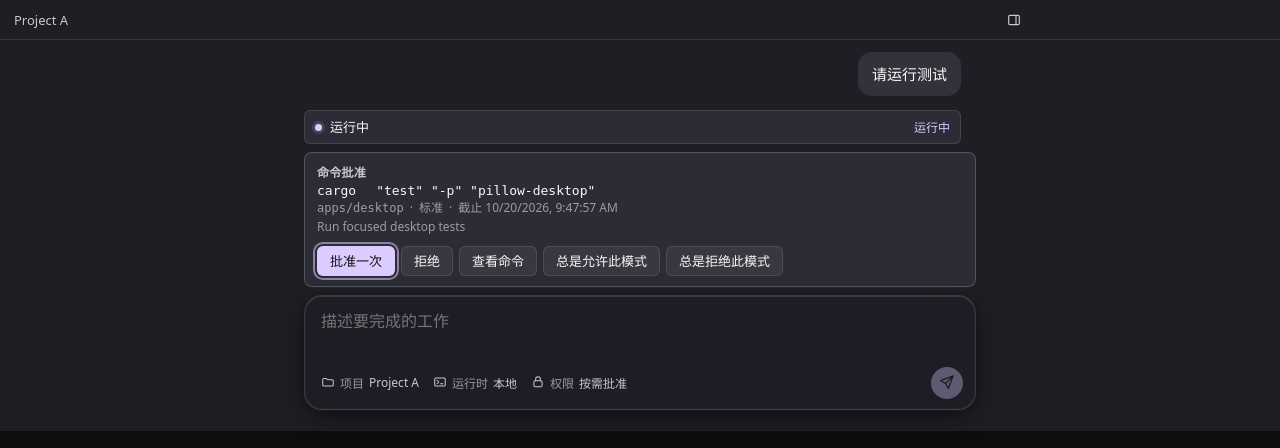
C4 workbench process integration — terminal pane › closing the pane does not cancel a process
Click the button with test id "command-approval-review" at {"x": 498, "y": 261}, box [459,246,537,276]
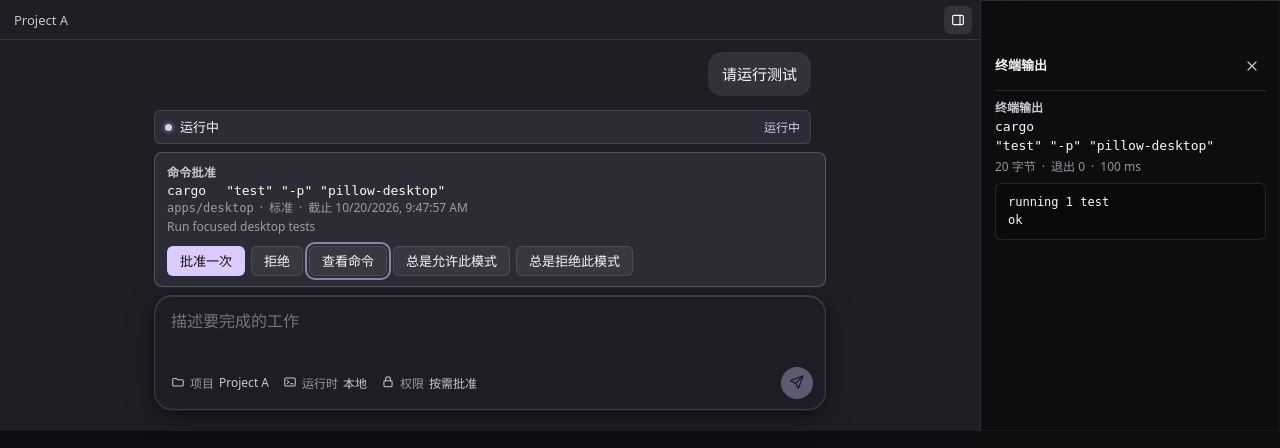
Expected: the element with test id "terminal-output-pane" is shown, [995,90,1266,240]
Click the button with test id "resource-pane-close" at {"x": 1252, "y": 66}, box [1238,52,1266,80]
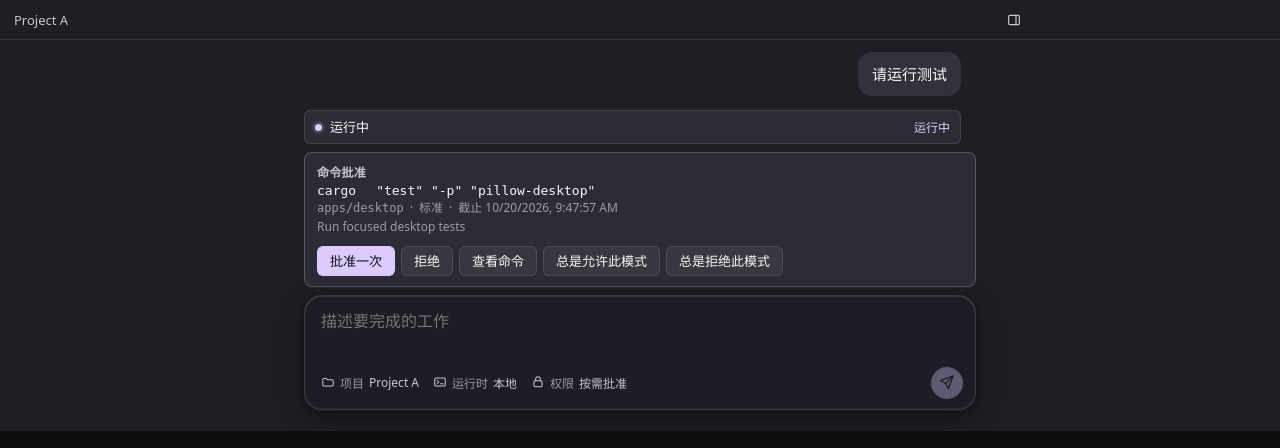
Expected: the element with test id "command-approval-bar" is shown, [304,152,976,287]
Expected: the element with test id "resource-pane" is gone
